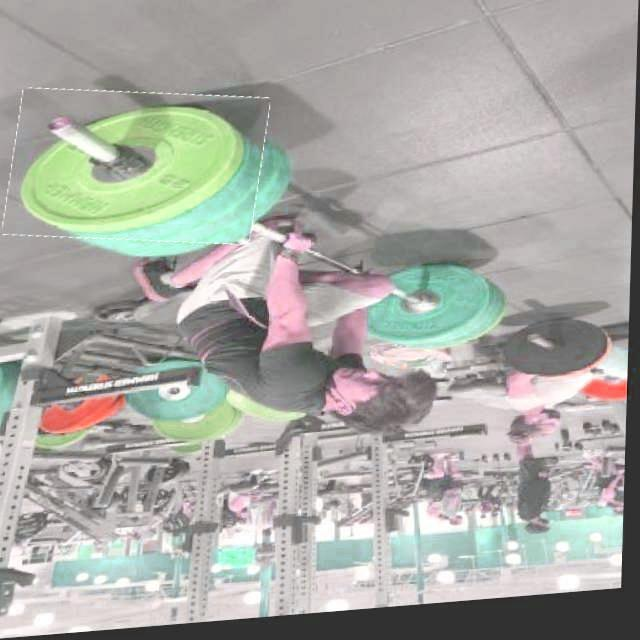barbell: (8, 81, 267, 257)
